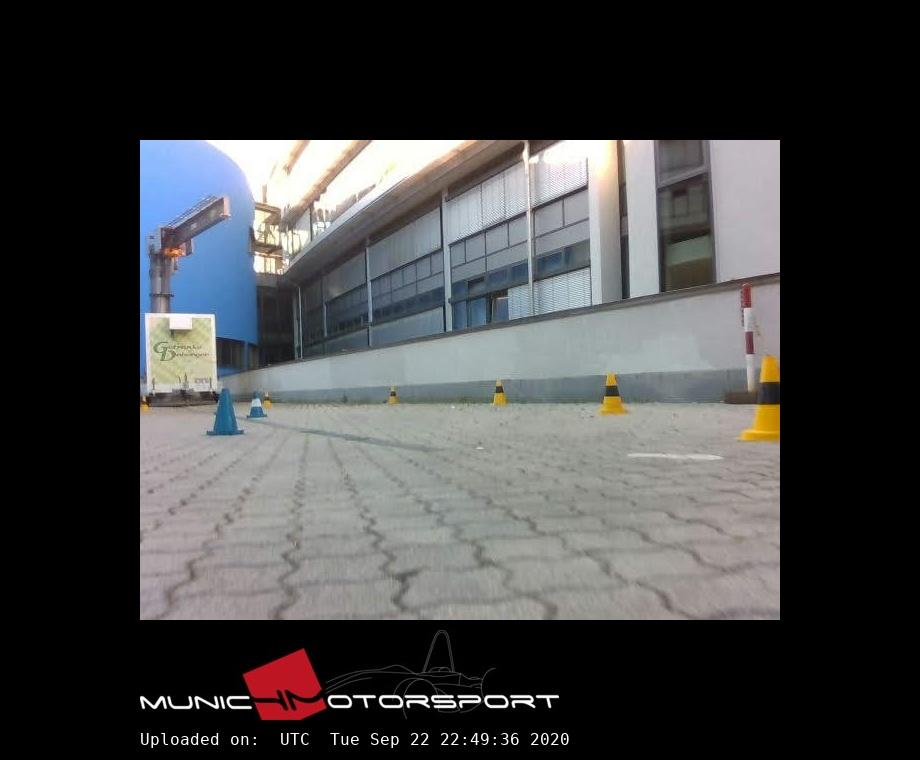blue_cone: (206, 389, 244, 435), (247, 392, 266, 417)
yellow_cone: (740, 357, 779, 440), (597, 374, 628, 413), (492, 380, 507, 405), (140, 396, 151, 412), (389, 388, 398, 404), (263, 392, 272, 407)
